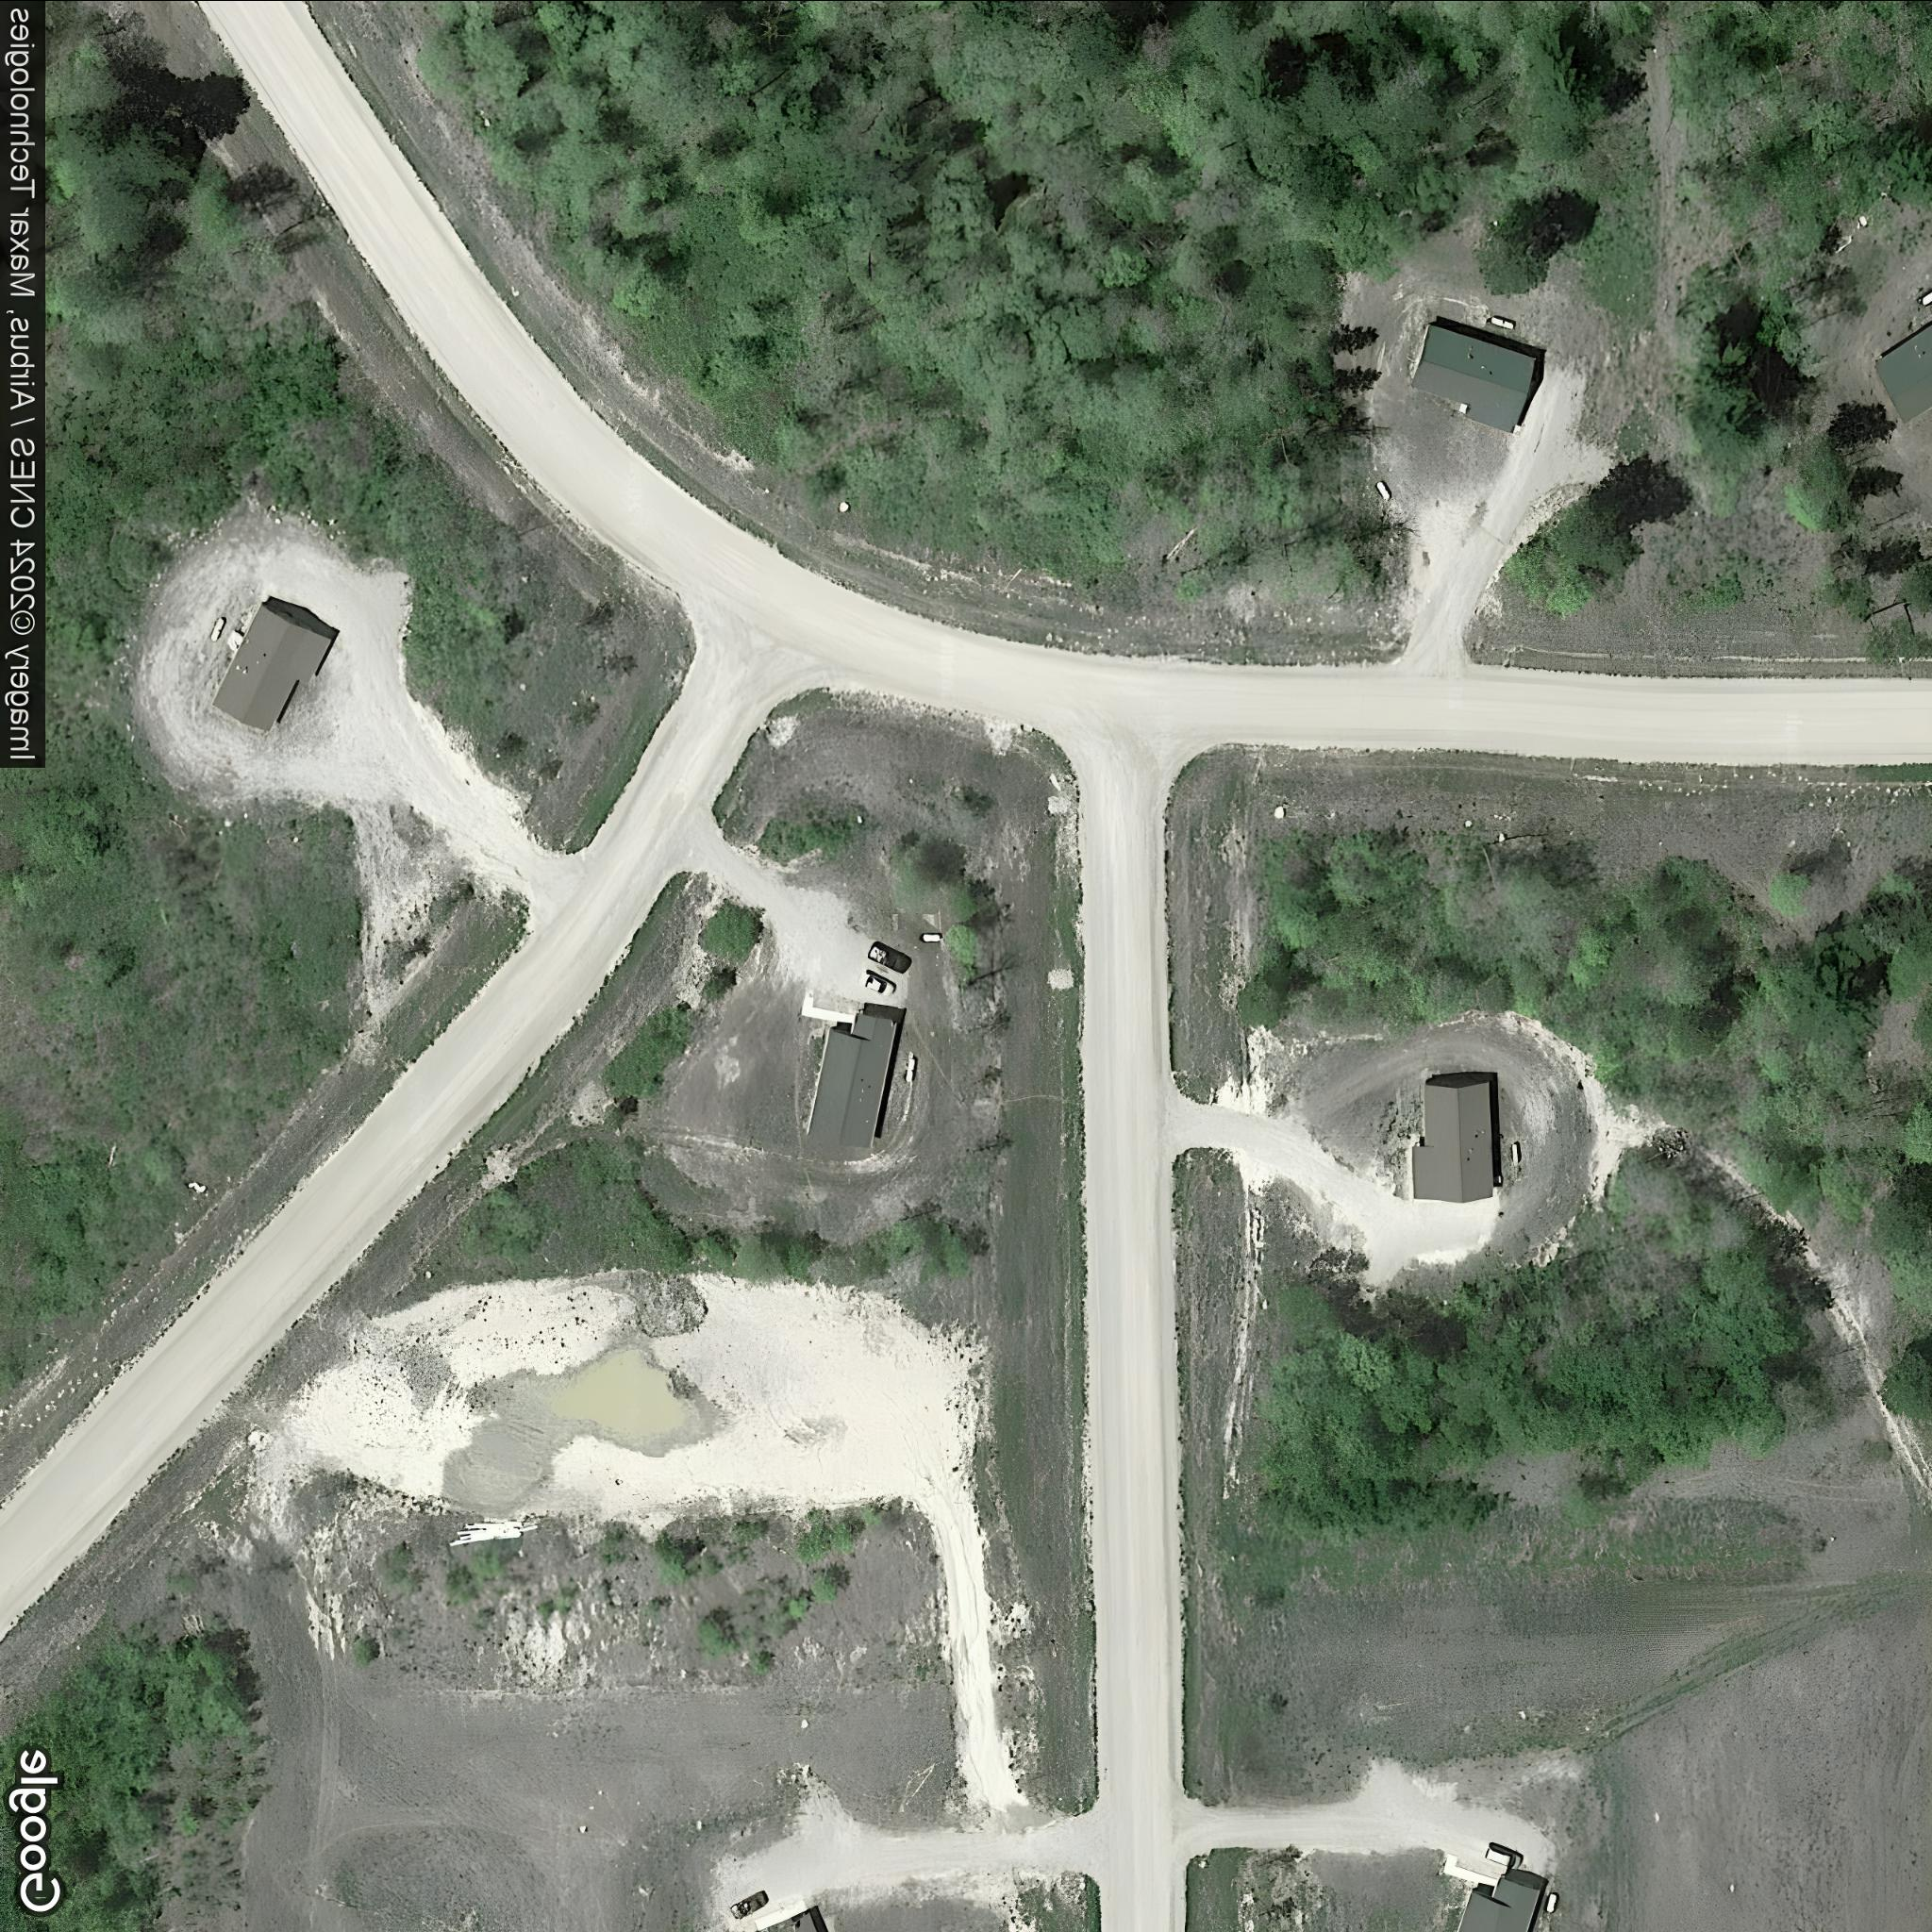House: (211, 600, 333, 732), (1405, 320, 1537, 432), (807, 1008, 899, 1148), (1410, 1076, 1497, 1203), (1872, 320, 1932, 423), (1458, 1875, 1543, 1932)
Propane: (1486, 311, 1520, 333), (1371, 476, 1396, 504), (205, 612, 228, 642), (904, 1053, 924, 1083), (1543, 1890, 1564, 1916), (918, 929, 947, 945), (1509, 1139, 1523, 1164), (1916, 288, 1932, 310)
